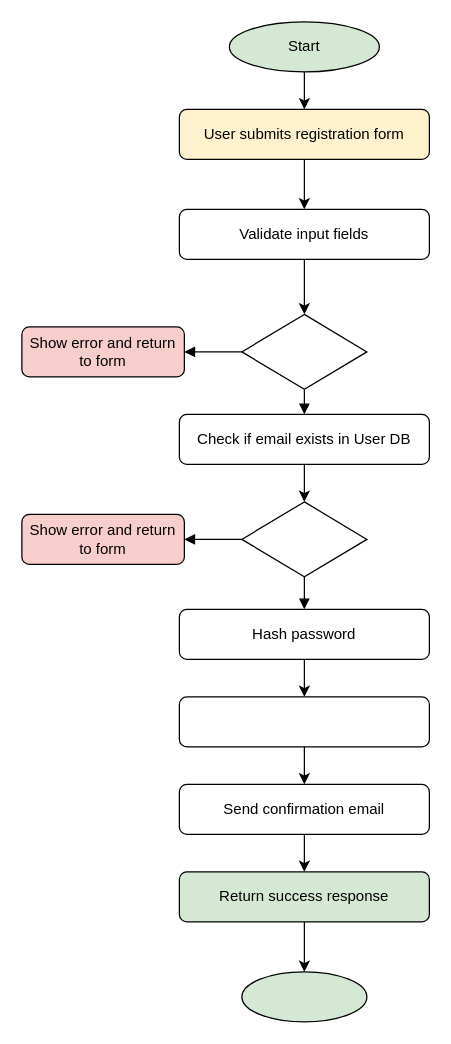
Some shapes in this 451 by 1044 pixel diagram are drawn without their labels. Here are the shapes that lost their labels. From the top down, the box of each, then its label:
(241, 313, 367, 389): Input valid?
(241, 501, 367, 577): Email exists?
(178, 696, 429, 747): Create user in User DB
(241, 971, 367, 1022): End
